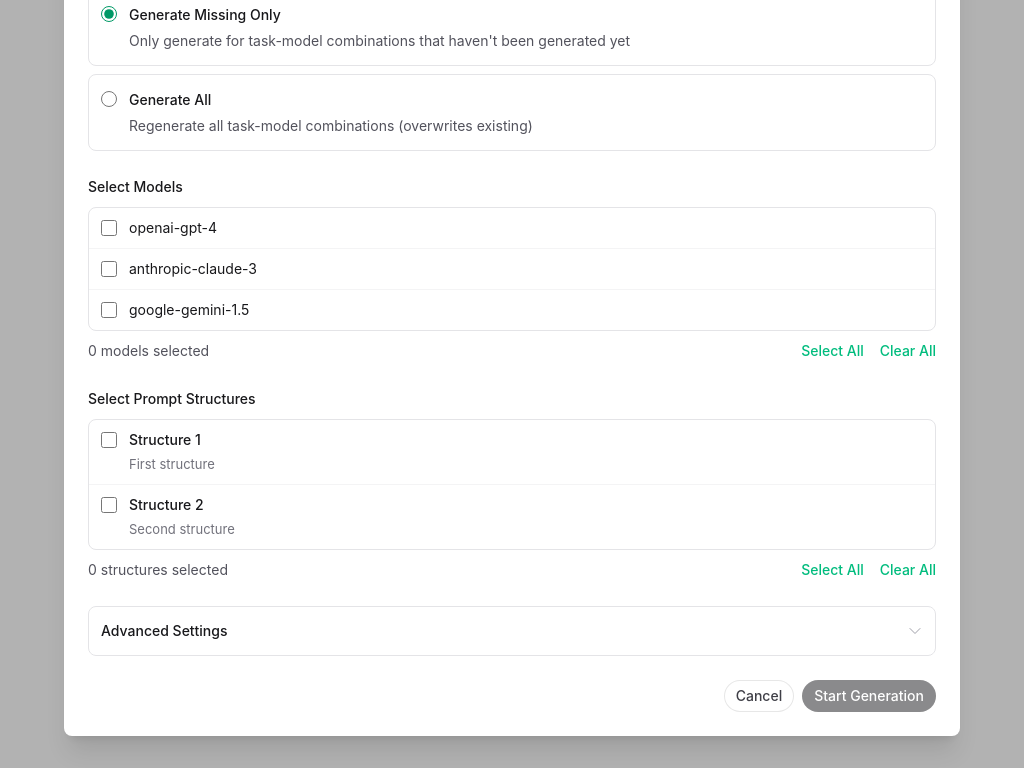
Test: GenerationControlModal › Structure Selection › handles select all structures
This screenshot has width=1024, height=768.
(page scrolled)
Expected: the text "Structure 1" is shown, [129, 431, 201, 448]
Click the button "Select All" in the row of "0 structures selected" at (832, 570), box [801, 561, 864, 579]
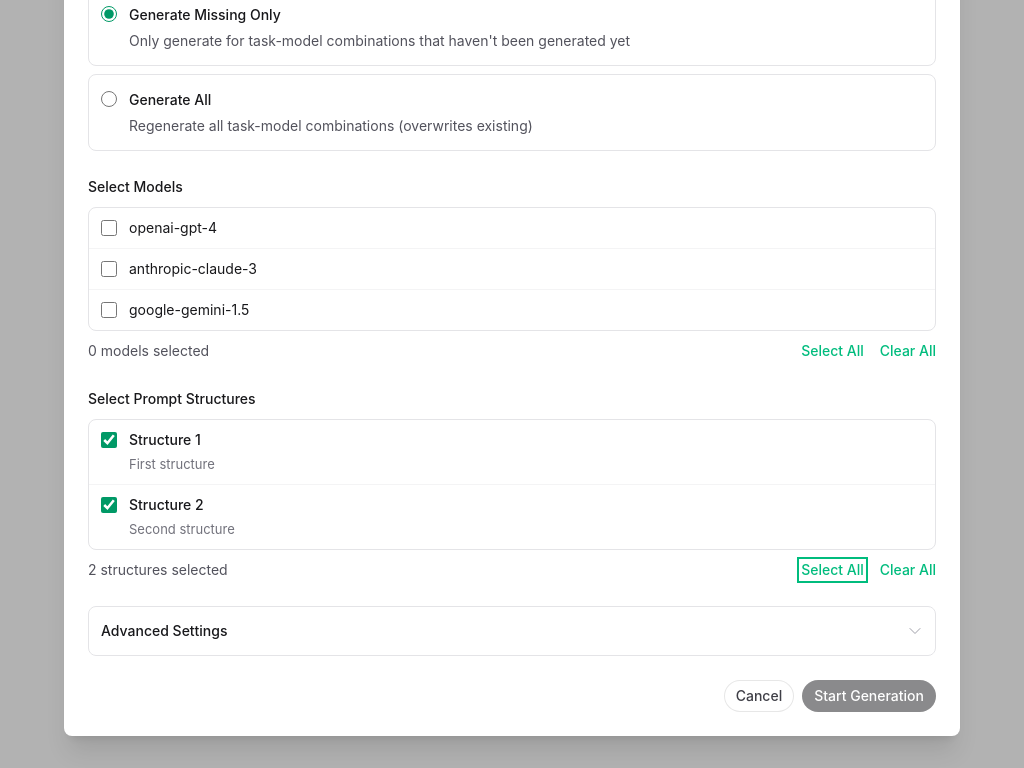
Now the checkbox with id "structure-structure1" is checked, box [101, 432, 117, 448]
Now the checkbox with id "structure-structure2" is checked, box [101, 497, 117, 513]
